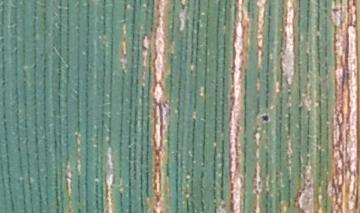tarspot: (258, 112, 271, 125)
